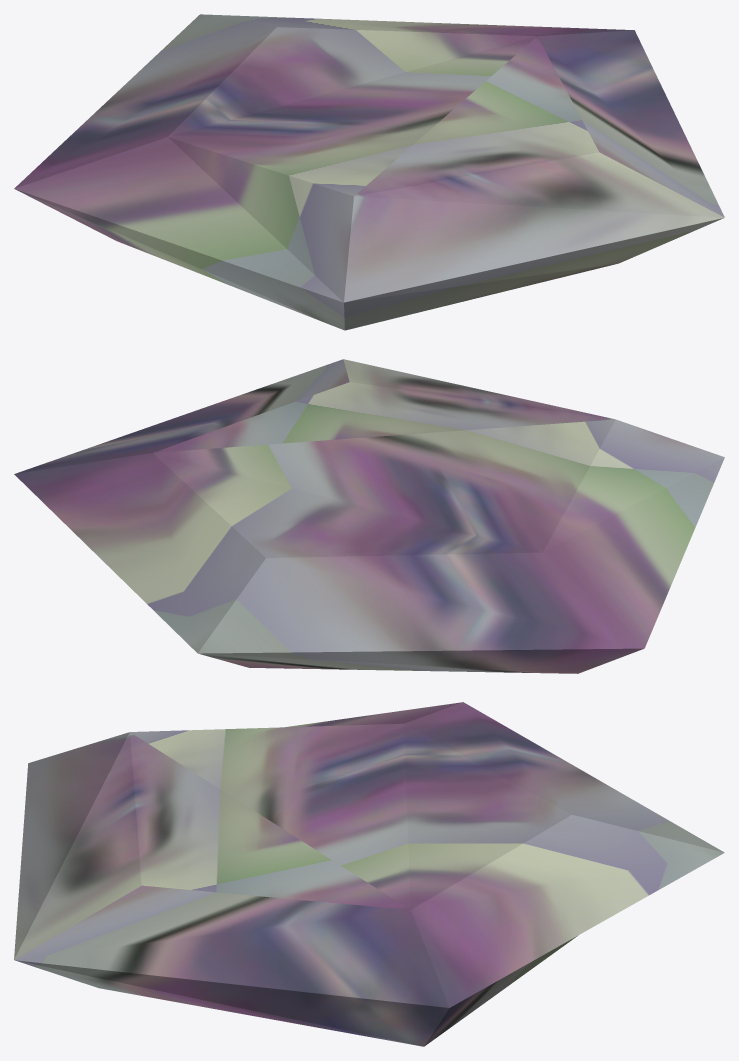
Rendered from PlateTree_1_Plate_5.gltf.
3 views of the same model, one above another, from view 1: azimuth 30°, elevation 25°; view 2: azimuth 150°, elevation 25°; view 3: azimuth 270°, elevation 25° (orthographic). The views are drawn at different scales.
Visible parts, largest first — view 1: PlateTree_1_Plate_5; view 2: PlateTree_1_Plate_5; view 3: PlateTree_1_Plate_5.
Part boxes in pixels (x1,y1,x2,y2): PlateTree_1_Plate_5: (14, 14, 724, 330); PlateTree_1_Plate_5: (14, 359, 724, 673); PlateTree_1_Plate_5: (14, 702, 724, 1046).
Bounding box in the file's own units: 2.09 × 0.3926 × 1.96.
Materials: 1 (1 with a texture image).
